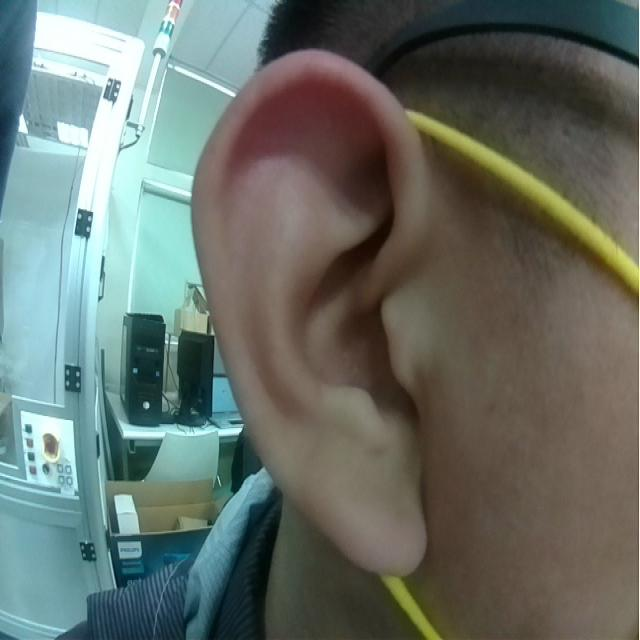no-earmuff: (187, 45, 434, 578)
